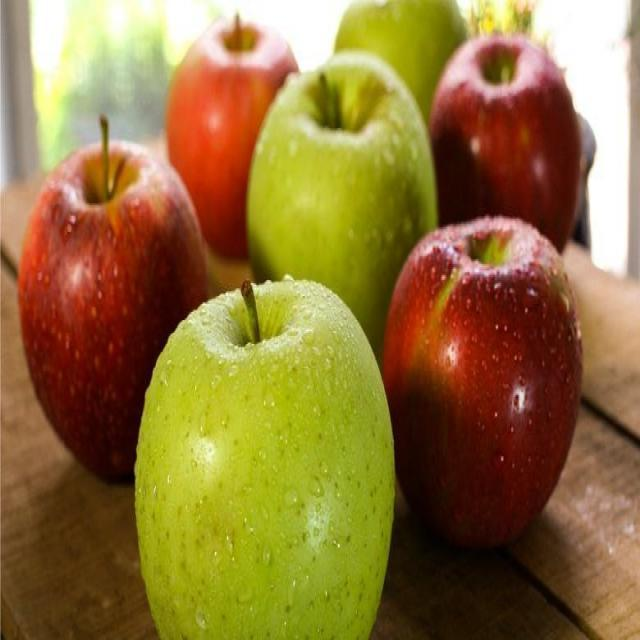Fresh Apple: (132, 285, 403, 640), (383, 217, 580, 560), (237, 64, 430, 308), (43, 148, 172, 477), (438, 47, 565, 225)
